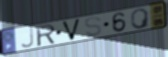6: (110, 11, 127, 33)
J: (19, 26, 35, 49)
Q: (129, 7, 151, 30)
R: (35, 23, 57, 47)
S: (83, 16, 104, 37)
V: (60, 18, 82, 42)
